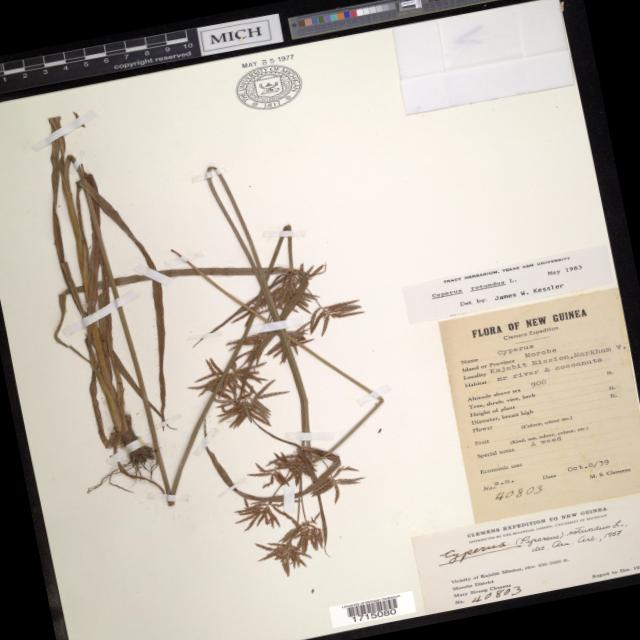cyperus: (162, 256, 388, 432), (208, 425, 396, 592)
